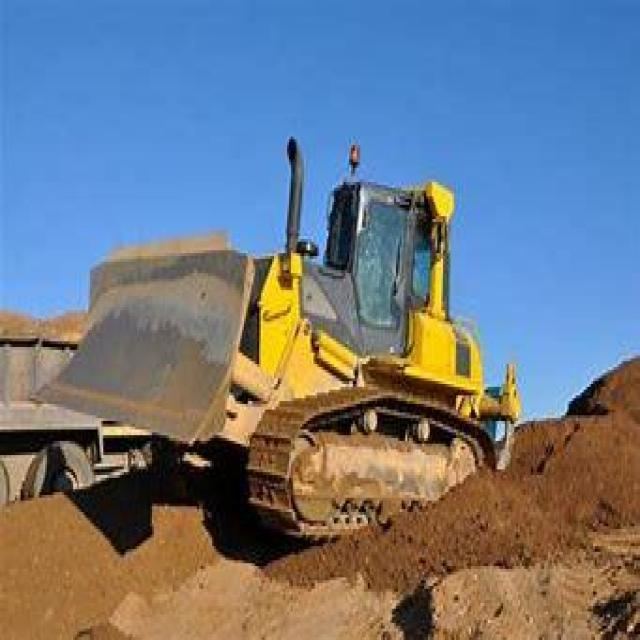buldozerpayloadergrader: (41, 148, 531, 549)
